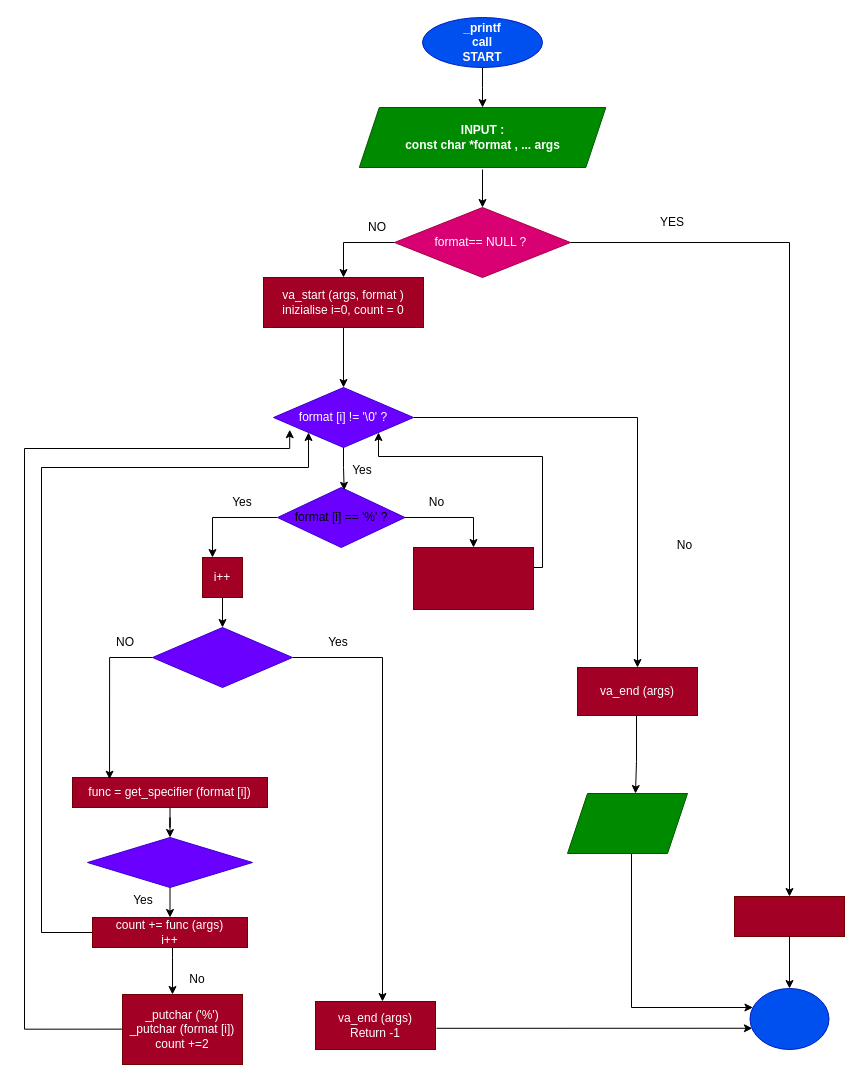
The diagram is 862 pixels wide and 1082 high, and some of its shapes have lost their labels. The centre of each missing label's shape, as x and y in pixels:
"_putchar (format[i]) count ++ i++" goes at (x=473, y=578).
"End" goes at (x=789, y=1019).
"format [i] == '\0' ?" goes at (x=222, y=657).
"func =! NULL ?" goes at (x=169, y=862).
"Return (-1)" goes at (x=789, y=916).
"Return count" goes at (x=627, y=823).
